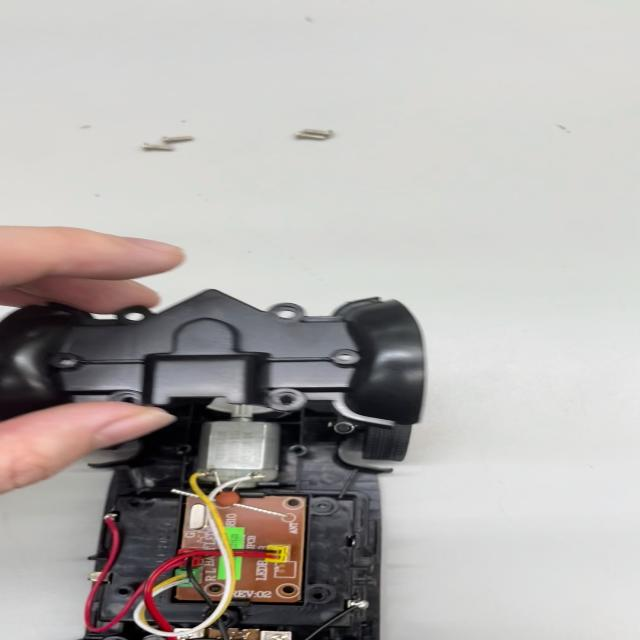motor_cover: (0, 295, 433, 421)
